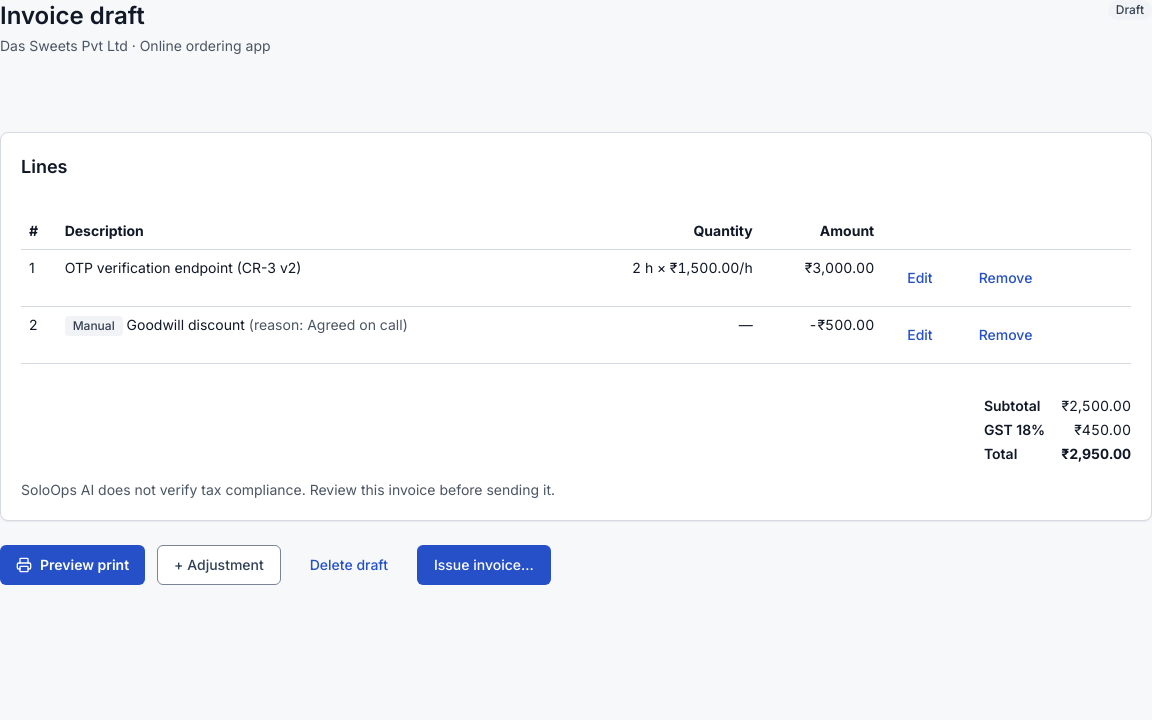
Test: S-11 issue and void (FR-044, FR-046) › CT-INV-06 AC-020.1 issuing needs the review confirmation and sends an Idempotency-Key
What coordinates should you click on to do the following:
click the button "Issue invoice…"
I would click on:
 (484, 565)
Its box is [417, 545, 551, 585].
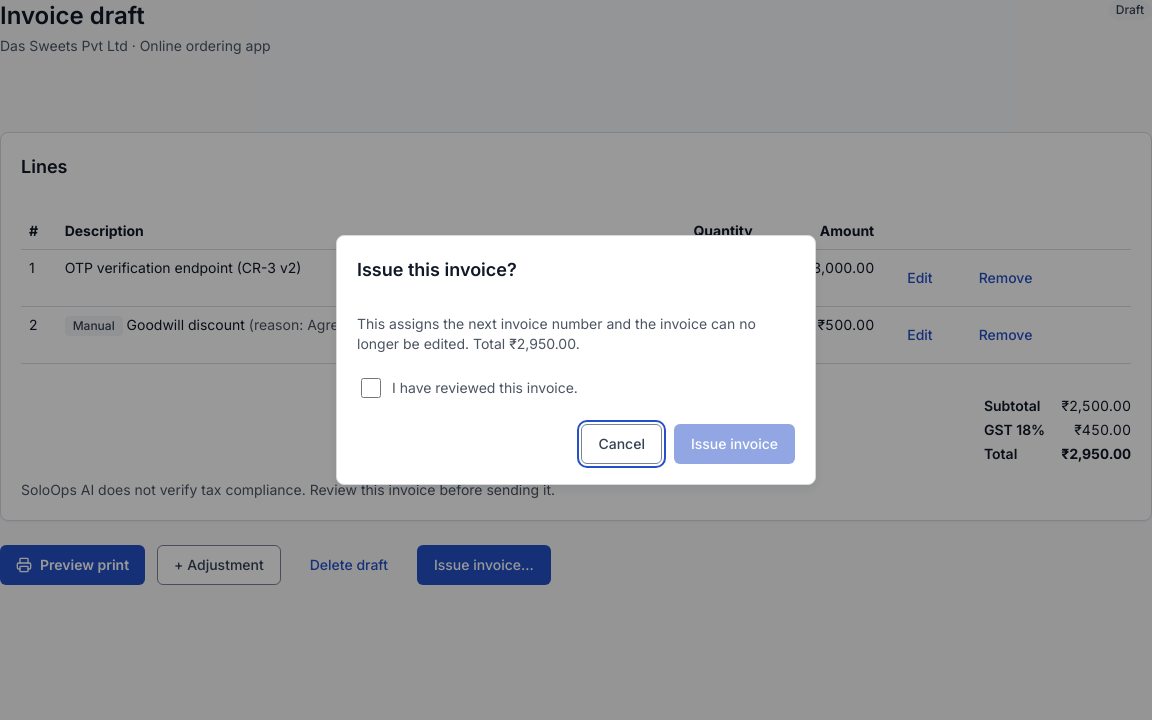
Now the text "Total ₹2,950.00" is shown, box [357, 314, 795, 354]
Now the button "Issue invoice" is disabled, box [674, 424, 795, 464]
What coordinates should you click on to do the following:
click the checkbox labelled "I have reviewed this invoice."
I would click on:
 (371, 388)
Its box is [361, 378, 381, 398].
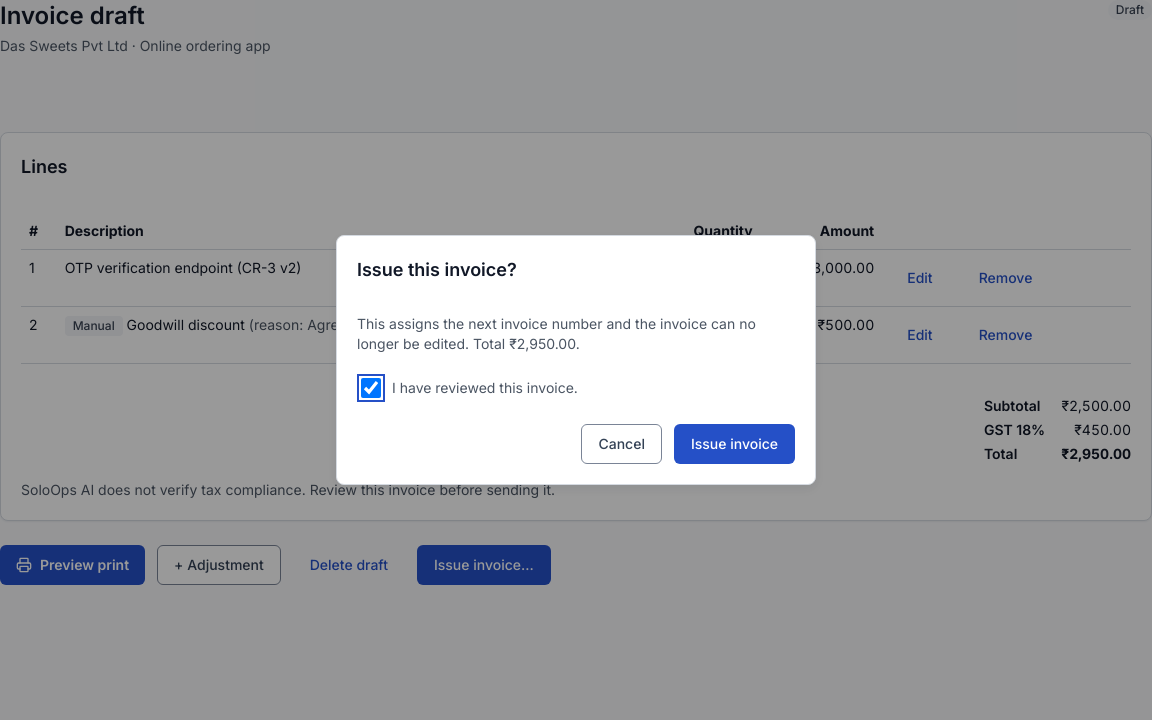
What coordinates should you click on to do the following:
click the button "Issue invoice"
I would click on:
 (734, 444)
Its box is [674, 424, 795, 464].
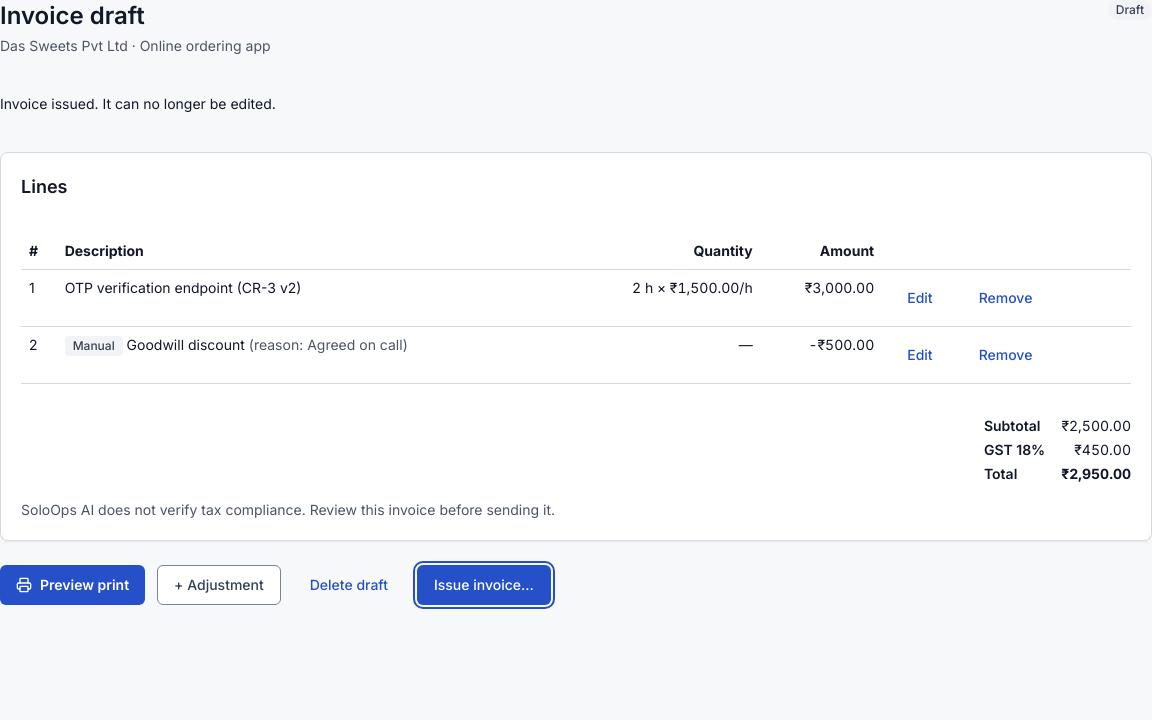
Now the message shows "Invoice issued", box [0, 95, 276, 112]
